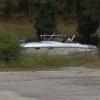Boat: (18, 31, 98, 63)
